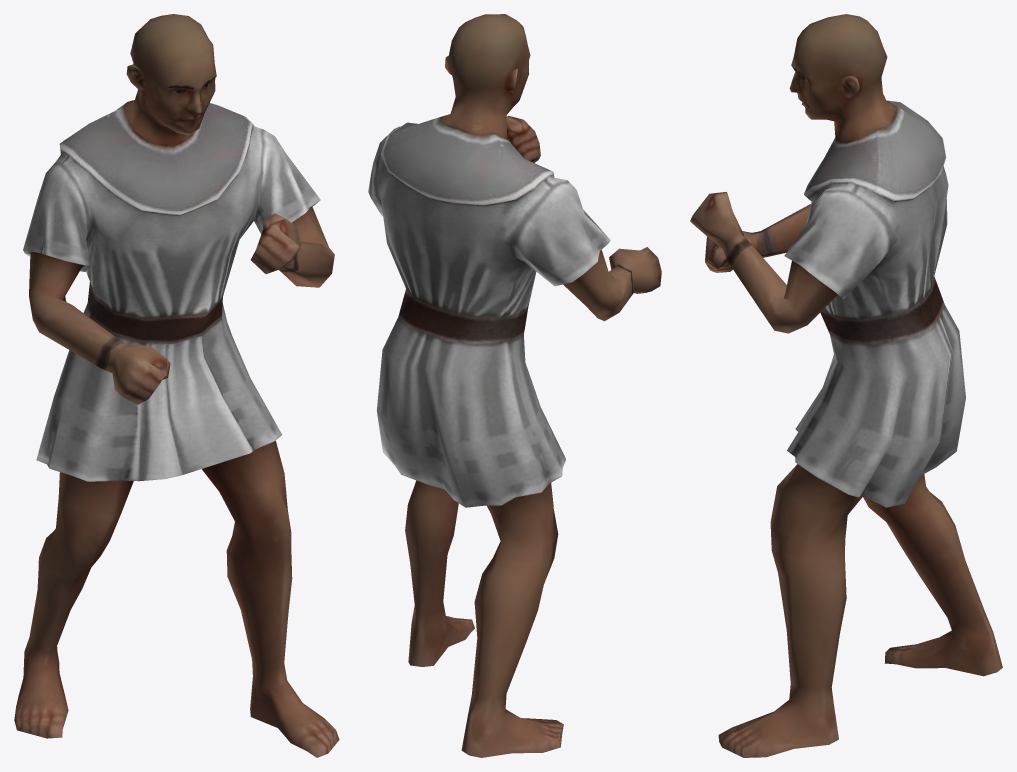
File: body-base.glb
The picture shows the model from 3 angles, left to right: view 1: azimuth 30°, elevation 25°; view 2: azimuth 150°, elevation 25°; view 3: azimuth 270°, elevation 25°; orthographic projection. The views are drawn at different scales.
Size of the model in its own units: 0.7939 by 1.98 by 0.8154.
1 material, 1 textured.
